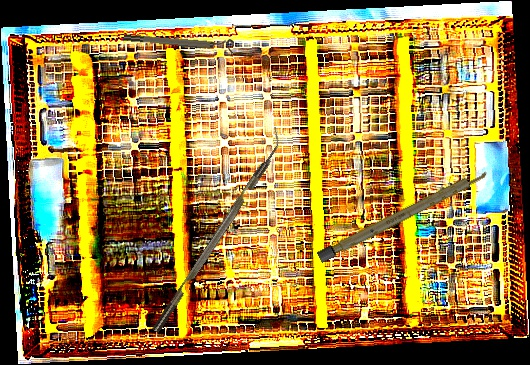Chopper: (142, 126, 291, 334)
Fixation Ring: (123, 27, 234, 55)
Scalpel Handle: (316, 166, 490, 264)
